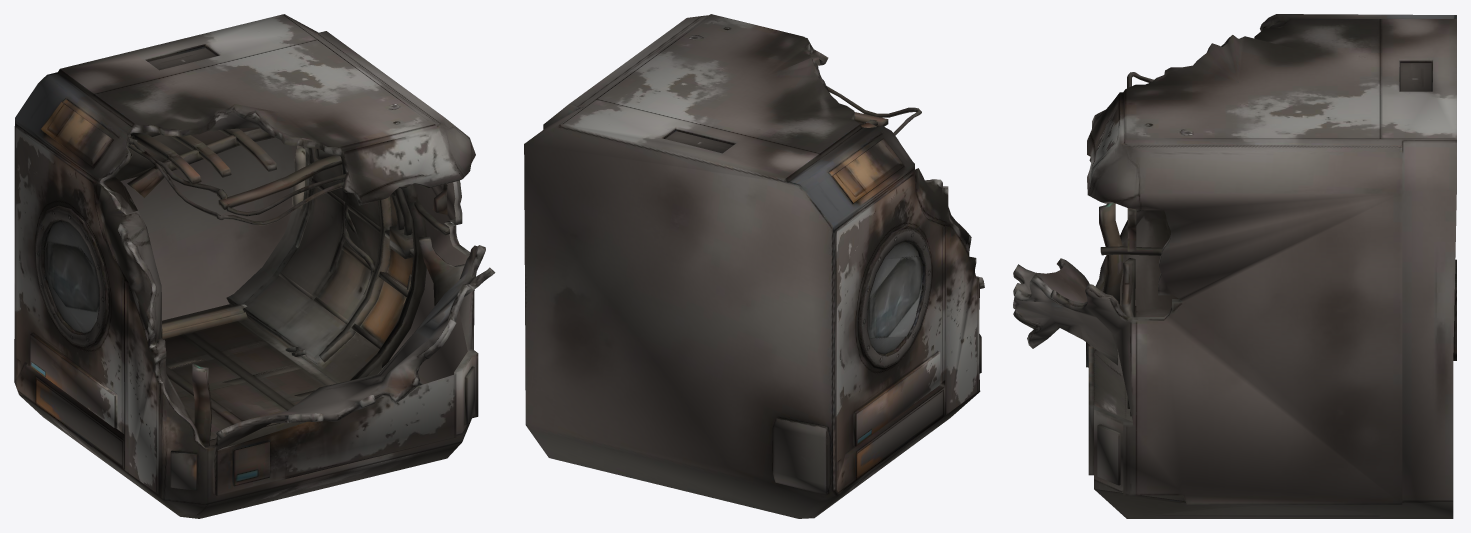
The model's file is original_glb.glb.
3 views of the same model, side by side, from view 1: azimuth 30°, elevation 25°; view 2: azimuth 150°, elevation 25°; view 3: azimuth 270°, elevation 25° (orthographic). The views are drawn at different scales.
Visible parts, largest first — view 1: Tumbling Hull Section; view 2: Tumbling Hull Section; view 3: Tumbling Hull Section.
Part boxes in pixels (left/top/right/bottom): Tumbling Hull Section: left=14, top=14, right=495, bottom=518; Tumbling Hull Section: left=524, top=14, right=984, bottom=518; Tumbling Hull Section: left=1013, top=14, right=1456, bottom=518.
Bounding box in the file's own units: 0.9082 × 0.9824 × 0.998.
Materials: 1 (1 with a texture image).
